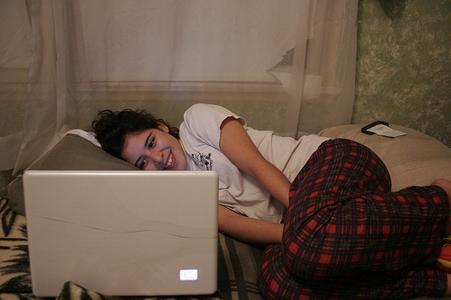person: (95, 102, 450, 300)
